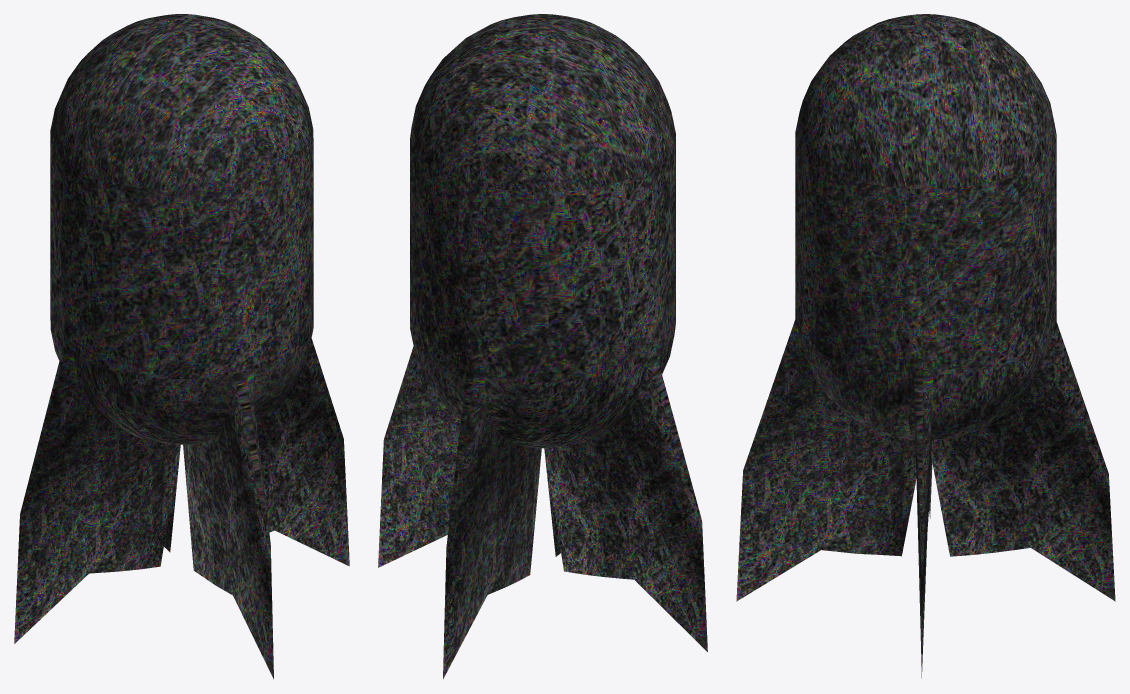
File: bomb.fbx
The picture shows the model from 3 angles, left to right: view 1: azimuth 30°, elevation 25°; view 2: azimuth 150°, elevation 25°; view 3: azimuth 270°, elevation 25°; orthographic projection.
Visible parts, largest first — view 1: Sphere; view 2: Sphere; view 3: Sphere.
Boxes of the visible parts, box(x1,y1,x2,y2) form: Sphere: box(14, 14, 349, 679); Sphere: box(378, 14, 707, 679); Sphere: box(736, 14, 1115, 678).
Bounding box in the file's own units: 2.89 × 4.85 × 2.89.
Materials: 1 (1 with a texture image).
